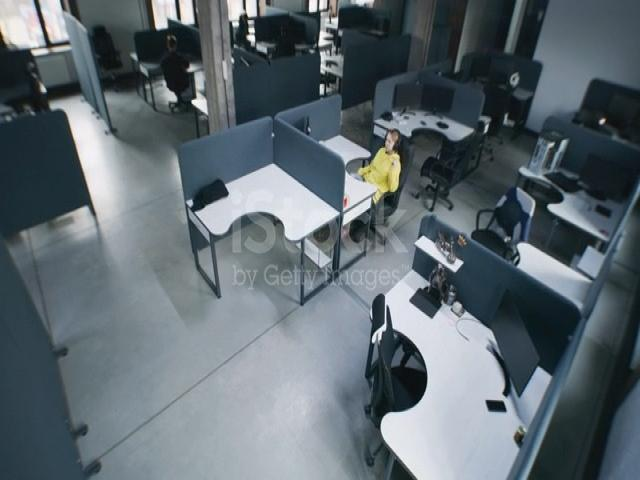EMPTY_CHAIR: (359, 288, 410, 470), (486, 167, 532, 278), (84, 8, 139, 100), (414, 120, 462, 218), (476, 57, 520, 136), (21, 34, 62, 118), (308, 47, 358, 107)
PERSON_IN_CHAIR: (346, 123, 409, 253), (159, 22, 201, 122), (568, 102, 640, 142)
